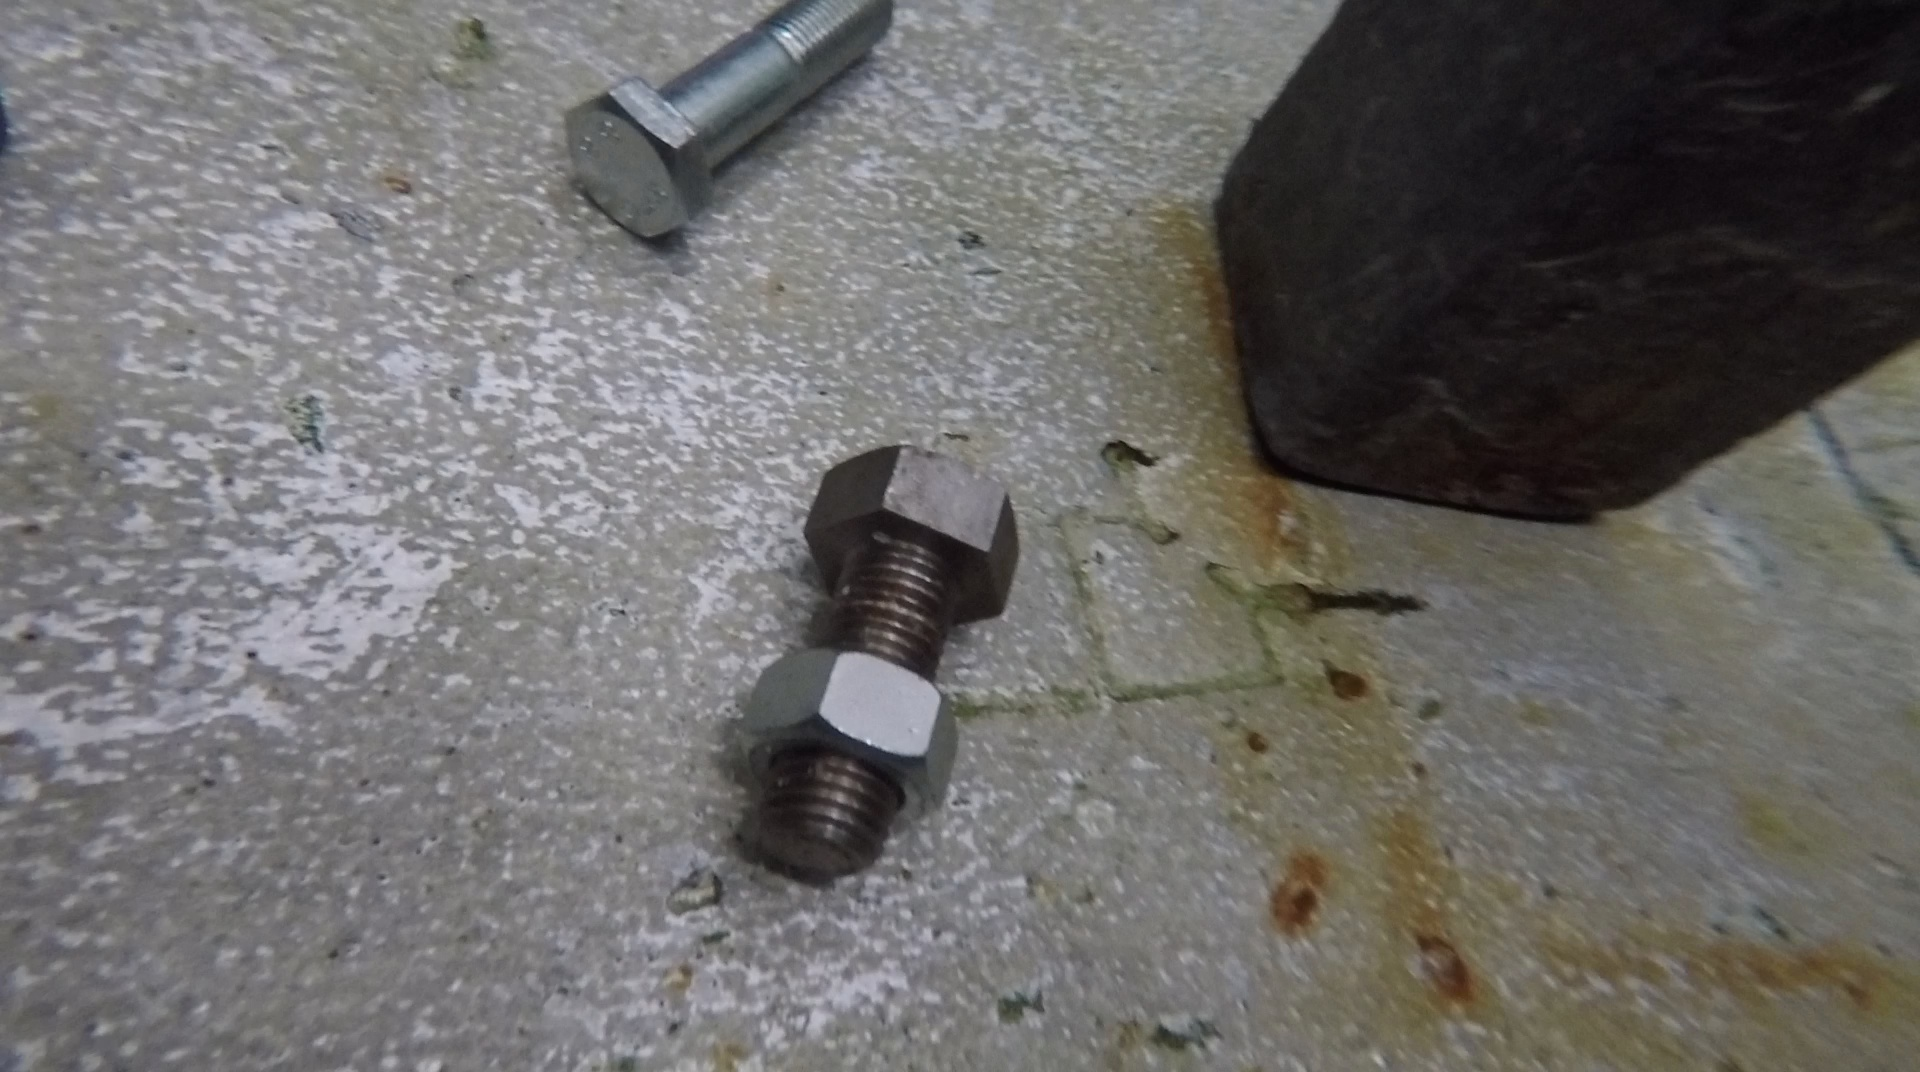bolt: (760, 442, 1025, 879), (562, 1, 899, 243)
led_block: (1216, 3, 1920, 527)
nut: (754, 647, 963, 806)
